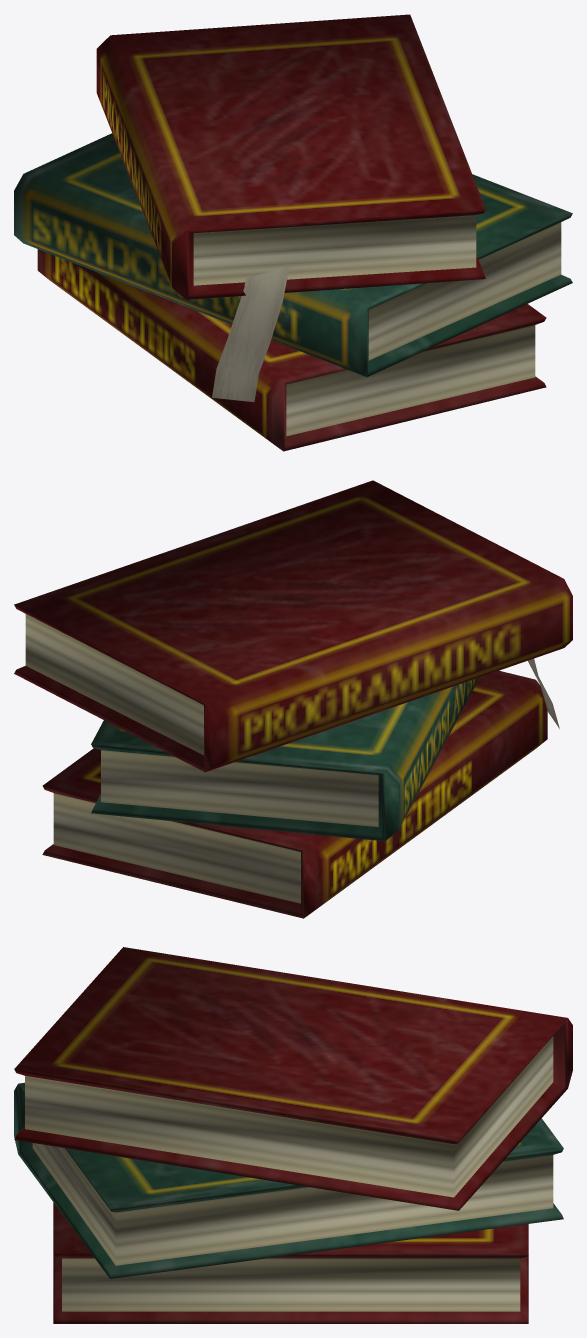
The model's file is bookPile.obj.
3 renders of one model, top to bottom at view 1: azimuth 30°, elevation 25°; view 2: azimuth 150°, elevation 25°; view 3: azimuth 270°, elevation 25°, orthographic. The views are drawn at different scales.
Parts seen in each view (by area): view 1: Box01; view 2: Box01; view 3: Box01.
Part boxes in pixels (x1,y1,x2,y2): Box01: [14, 14, 572, 451]; Box01: [14, 480, 572, 918]; Box01: [14, 947, 572, 1323].
Size of the model in its own units: 0.848 by 0.4282 by 1.01.
1 material, 1 textured.
